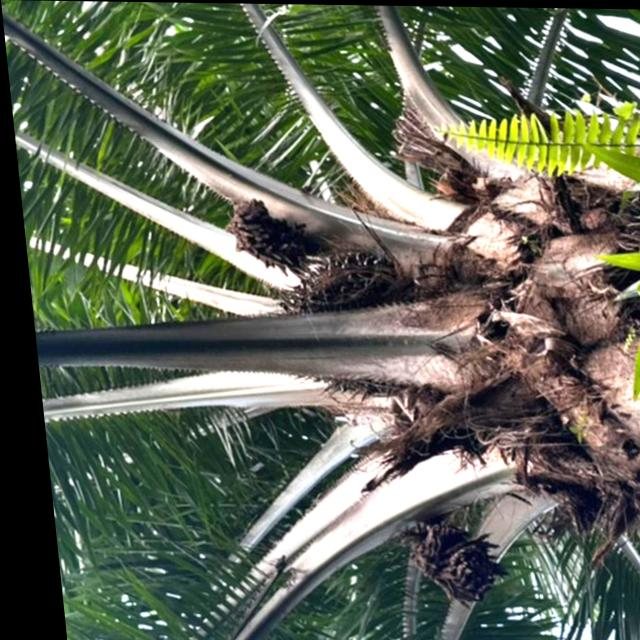almost: (265, 243, 427, 397)
